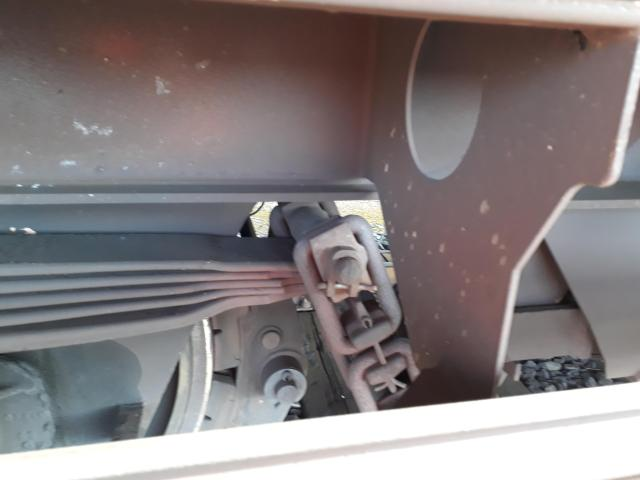blattfederww: (1, 245, 282, 350)
